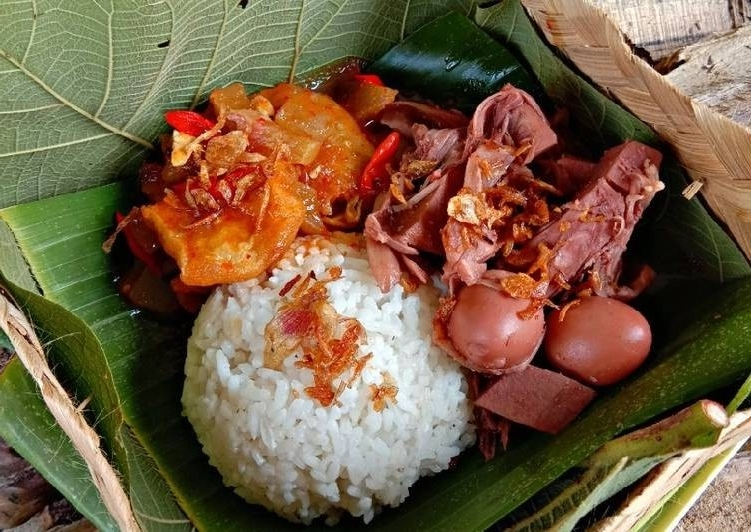gudeg: (109, 63, 663, 528)
